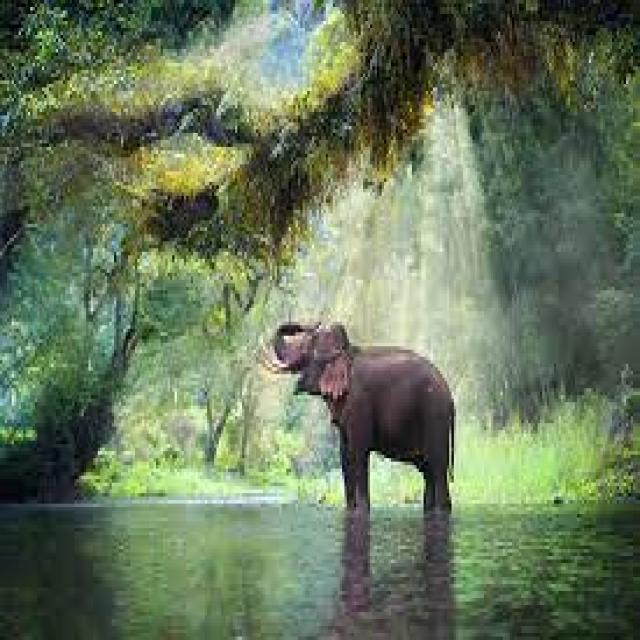Elephant: (258, 304, 472, 527)
